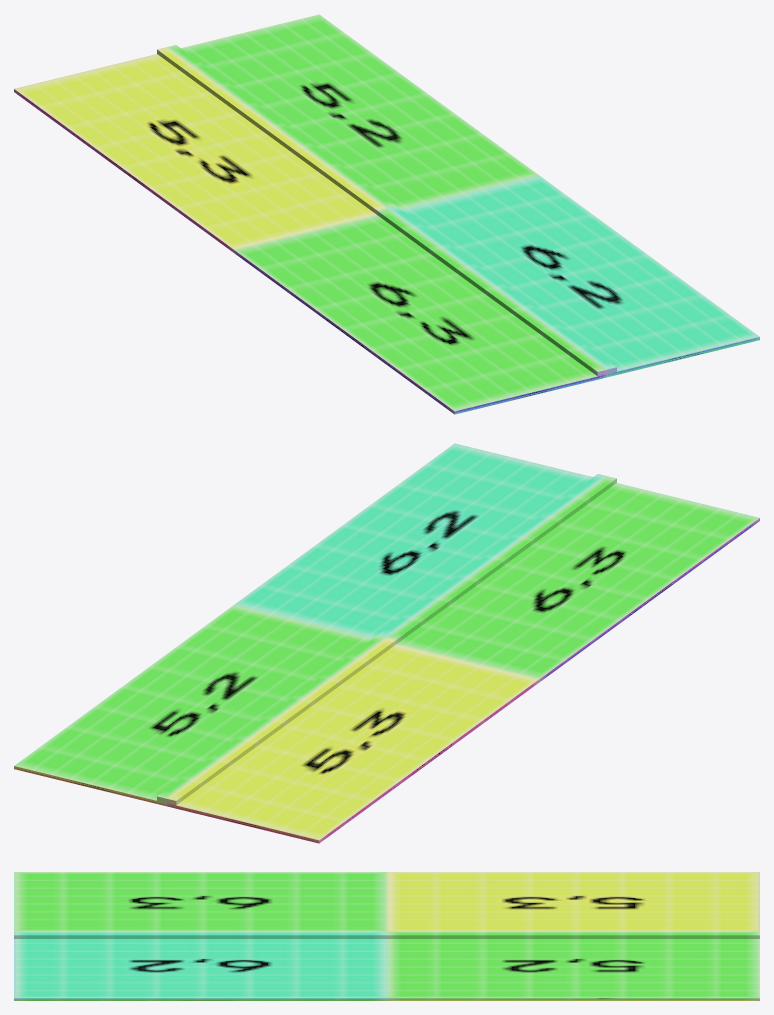
File: stageGraunod.obj
3 views of the same model, one above another, from view 1: azimuth 30°, elevation 25°; view 2: azimuth 150°, elevation 25°; view 3: azimuth 270°, elevation 25° (orthographic). The views are drawn at different scales.
Visible parts, largest first — view 1: Cube; view 2: Cube; view 3: Cube.
Boxes of the visible parts, <box> form: Cube: <box>14,14,759,414</box>; Cube: <box>14,443,759,843</box>; Cube: <box>14,872,759,1000</box>.
Size of the model in its own units: 40 by 0.9576 by 100.
Materials: 1 (1 with a texture image).
